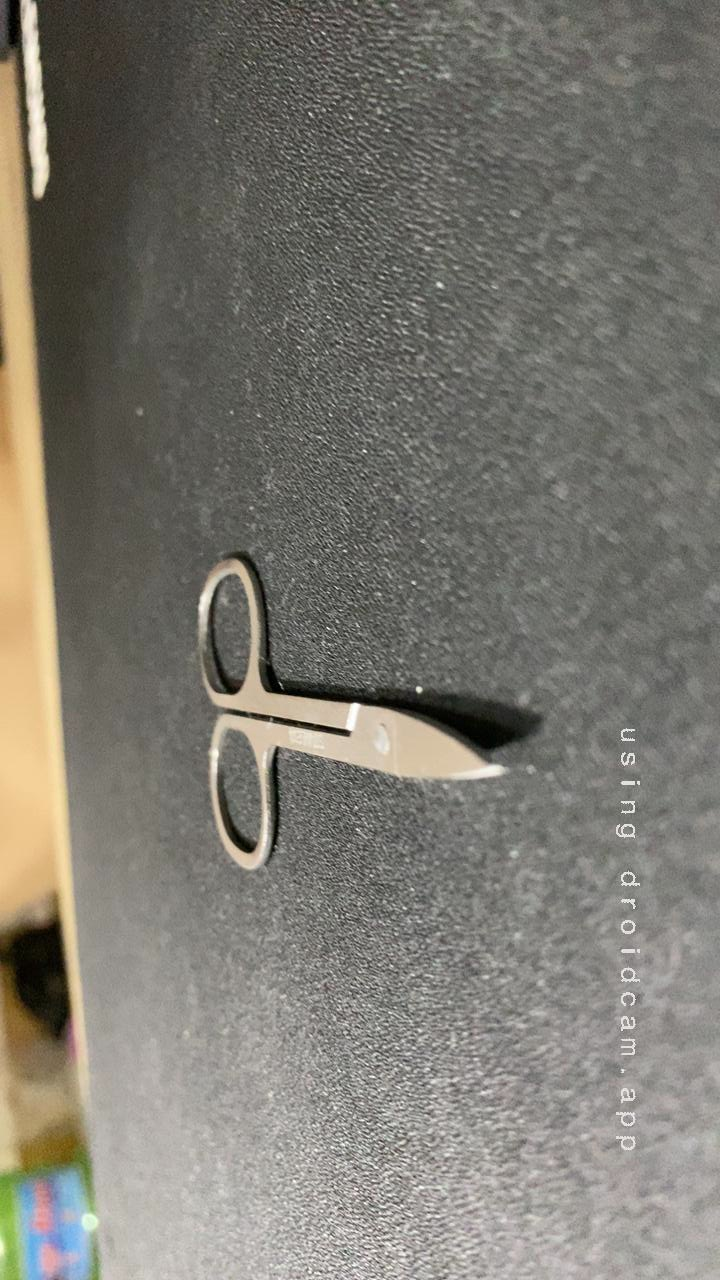scissor: (0, 521, 377, 893)
